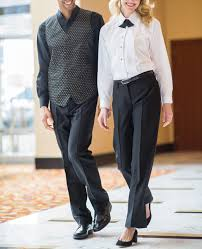F_belt: (106, 64, 161, 91)
F_dress pants: (42, 100, 111, 224), (109, 81, 161, 239)
F_shirt: (95, 12, 178, 109)
